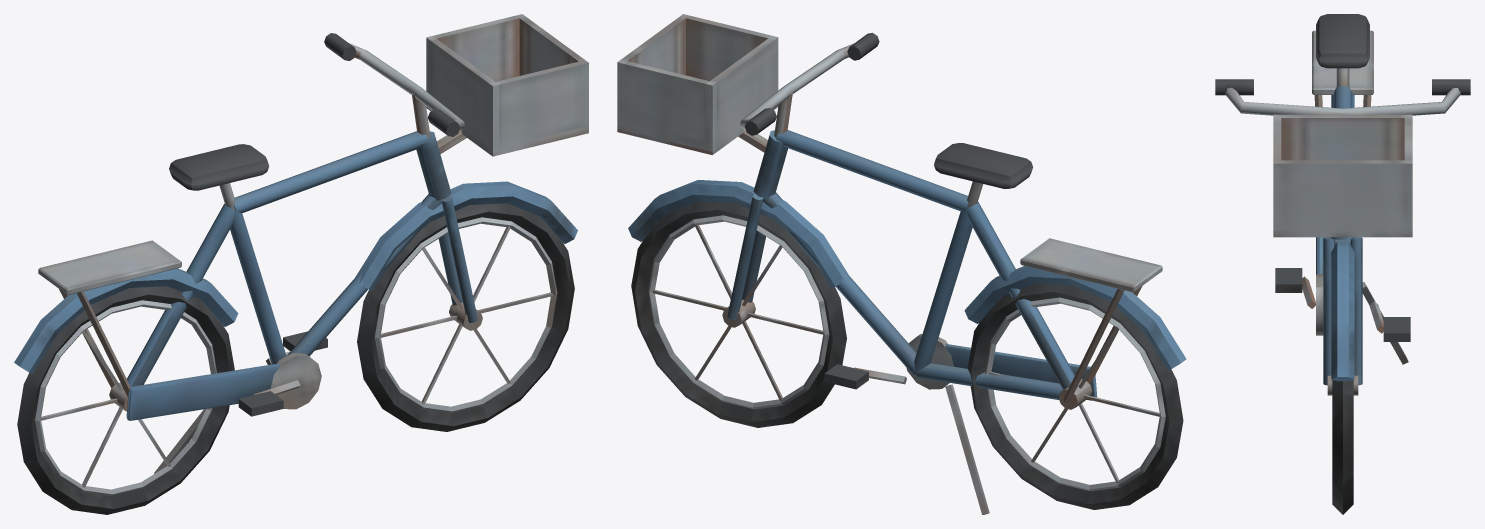
File: bicycle.glb
3 renders of one model, left to right at view 1: azimuth 30°, elevation 25°; view 2: azimuth 150°, elevation 25°; view 3: azimuth 270°, elevation 25°, orthographic. The views are drawn at different scales.
Visible parts, largest first — view 1: bicycle; view 2: bicycle; view 3: bicycle.
Boxes of the visible parts, box(x1,y1,x2,y2) form: bicycle: box(14, 14, 588, 514); bicycle: box(617, 14, 1186, 514); bicycle: box(1215, 14, 1470, 514).
Bounding box in the file's own units: 1.74 × 1.11 × 0.66.
Materials: 3 (3 with a texture image).
